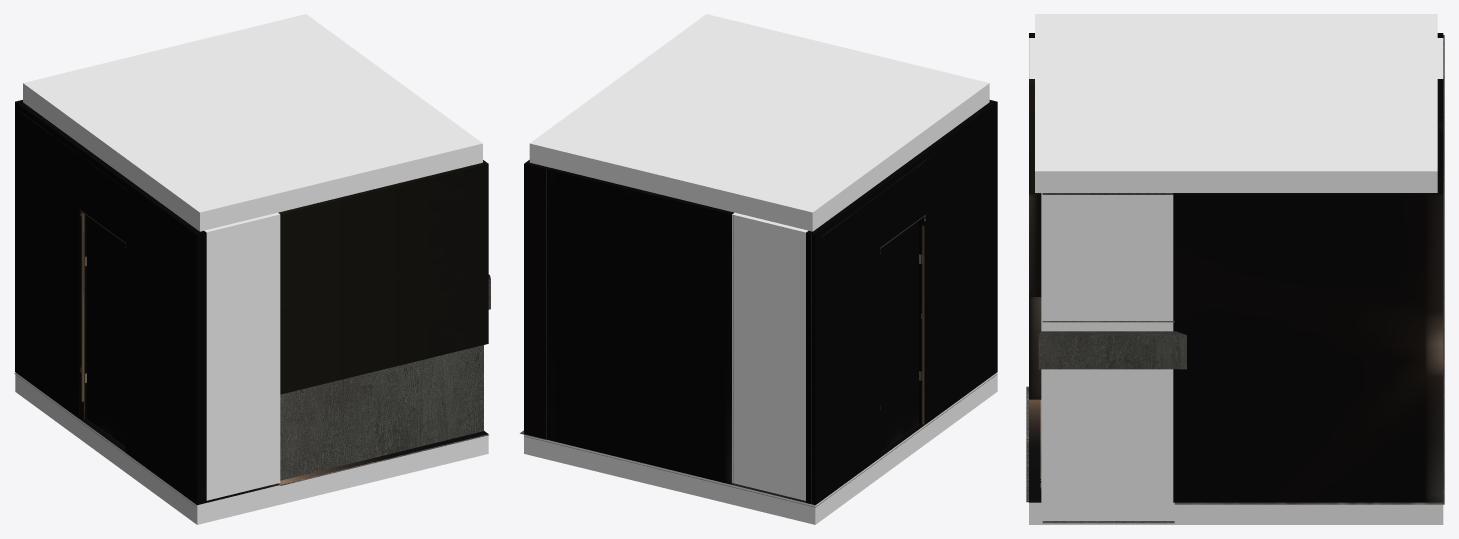
The model's file is bath_.gltf.
3 views of the same model, side by side, from view 1: azimuth 30°, elevation 25°; view 2: azimuth 150°, elevation 25°; view 3: azimuth 270°, elevation 25° (orthographic). The views are drawn at different scales.
Parts seen in each view (by area): view 1: celling_outer, Object156, shower_big_2, basin_outer (1), gray___, floor_outer, door_, door_frame, shower_floor_; view 2: celling_outer, Basin_Back_2, Object156, basin_outer, floor_outer, door_, wc_back_2, door_frame, gray___; view 3: wc_back_2, celling_outer, shower_outer, floor_outer, gray_texture, shower_big_2, gray___, shower_floor_, Box289, Basin_Back_2.
Part boxes in pixels (x1,y1,x2,y2): celling_outer: (23, 14, 482, 231); Object156: (15, 100, 206, 505); shower_big_2: (278, 160, 488, 394); basin_outer (1): (204, 212, 280, 500); gray___: (14, 345, 488, 506); floor_outer: (15, 372, 488, 524); door_: (87, 216, 125, 446); door_frame: (80, 210, 125, 451); shower_floor_: (206, 431, 488, 502); celling_outer: (529, 14, 989, 231); Basin_Back_2: (550, 168, 733, 484); Object156: (806, 100, 997, 505); basin_outer: (732, 212, 808, 500); floor_outer: (524, 372, 997, 524); door_: (880, 221, 918, 451); wc_back_2: (524, 160, 552, 440); door_frame: (880, 215, 925, 456); gray___: (524, 170, 996, 507); wc_back_2: (1173, 180, 1443, 502); celling_outer: (1035, 14, 1437, 192); shower_outer: (1041, 195, 1173, 502); floor_outer: (1029, 502, 1443, 524); gray_texture: (1038, 331, 1186, 369); shower_big_2: (1029, 79, 1041, 399); gray___: (1026, 78, 1444, 523); shower_floor_: (1029, 399, 1041, 502); Box289: (1174, 384, 1444, 504); Basin_Back_2: (1437, 79, 1443, 179).
Size of the model in its own units: 3.17 by 3.14 by 3.38.
49 materials, 29 textured.
